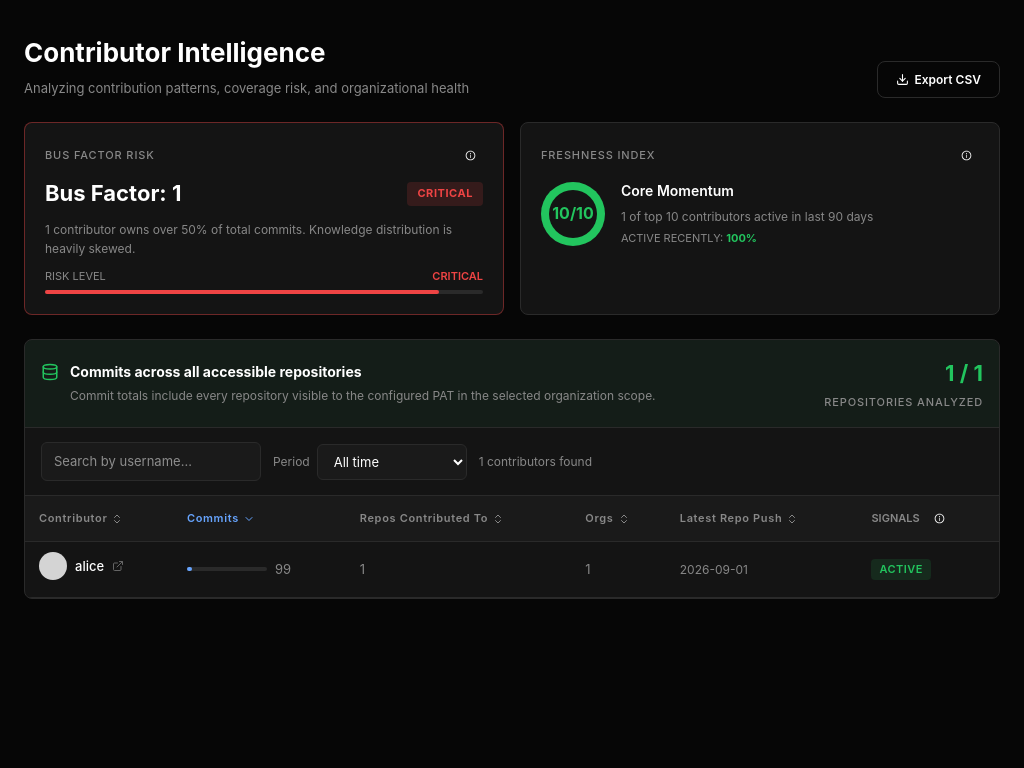
Scenario: ContributorsPage period filter › shows lifetime commits clearly and loads weekly data for a selected period
Expected: the text "Commits across all accessible repositories" is shown, [70, 363, 362, 380]
Expected: the text "1 / 1" is shown, [945, 360, 983, 386]
Select "Last 3 months" in the dropdown named "Contribution period". click: (392, 462)
box: [317, 444, 467, 480]
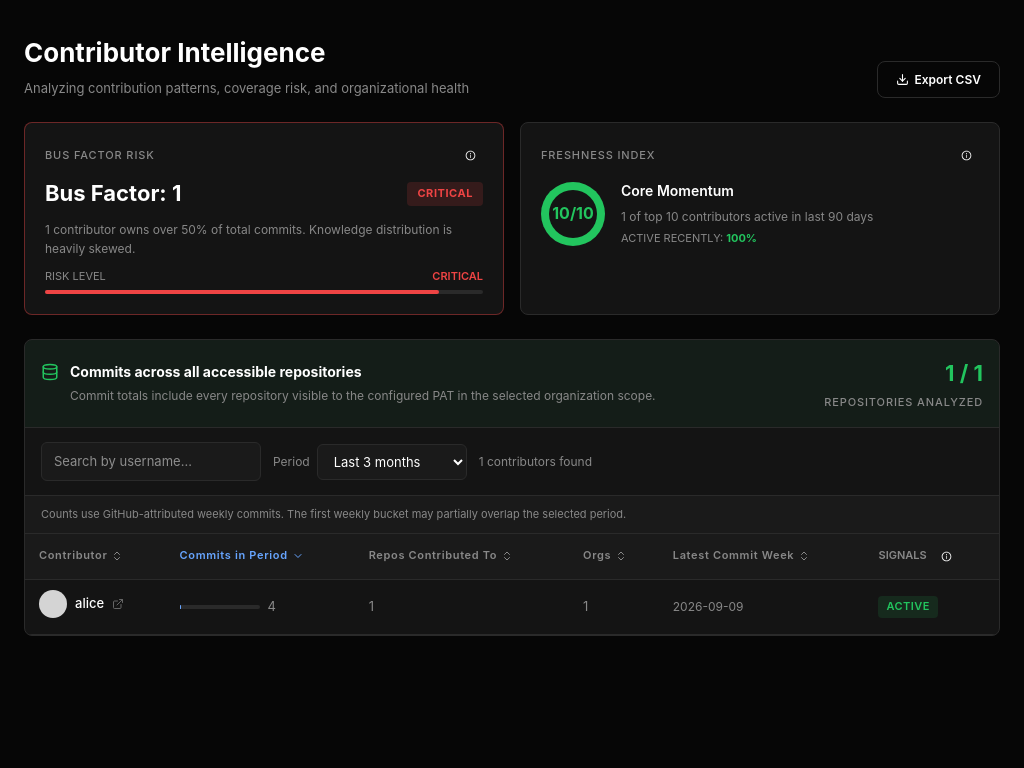
Result: the column heading "Commits in Period" is shown at [166, 534, 355, 579]
Result: the text "4" is shown at [268, 596, 276, 617]
